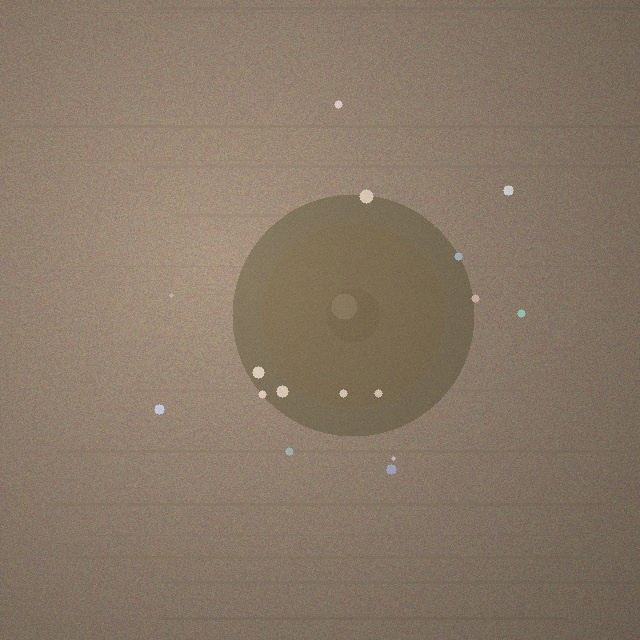overburn: (232, 194, 474, 436)
